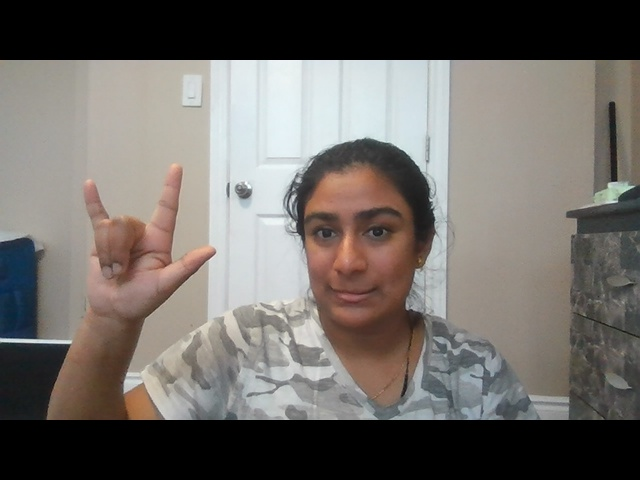iloveyou: (69, 157, 220, 328)
